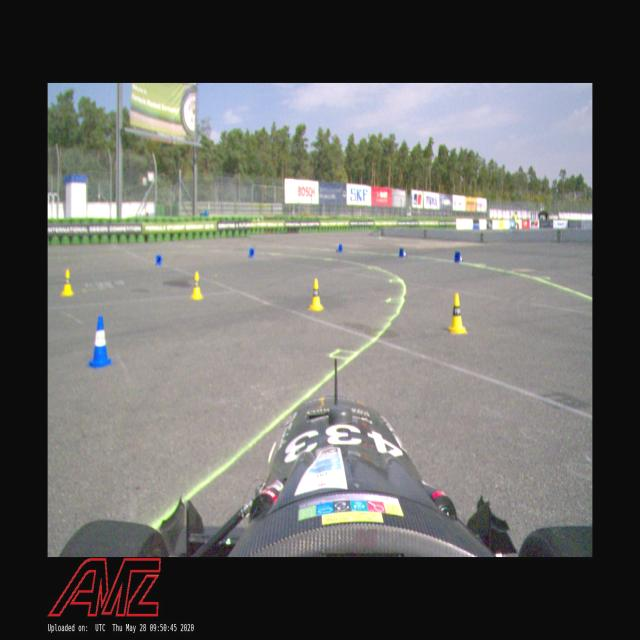blue_cone: (88, 316, 114, 368), (454, 251, 464, 263), (398, 247, 406, 257), (156, 253, 162, 266), (249, 248, 255, 258), (336, 243, 342, 253)
yellow_cone: (448, 292, 468, 334), (308, 278, 324, 311), (60, 268, 74, 296), (190, 270, 203, 300)
